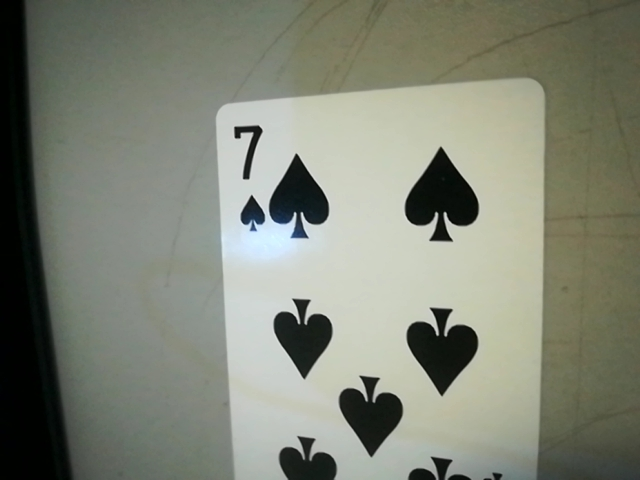ht 7: (220, 114, 270, 240)
